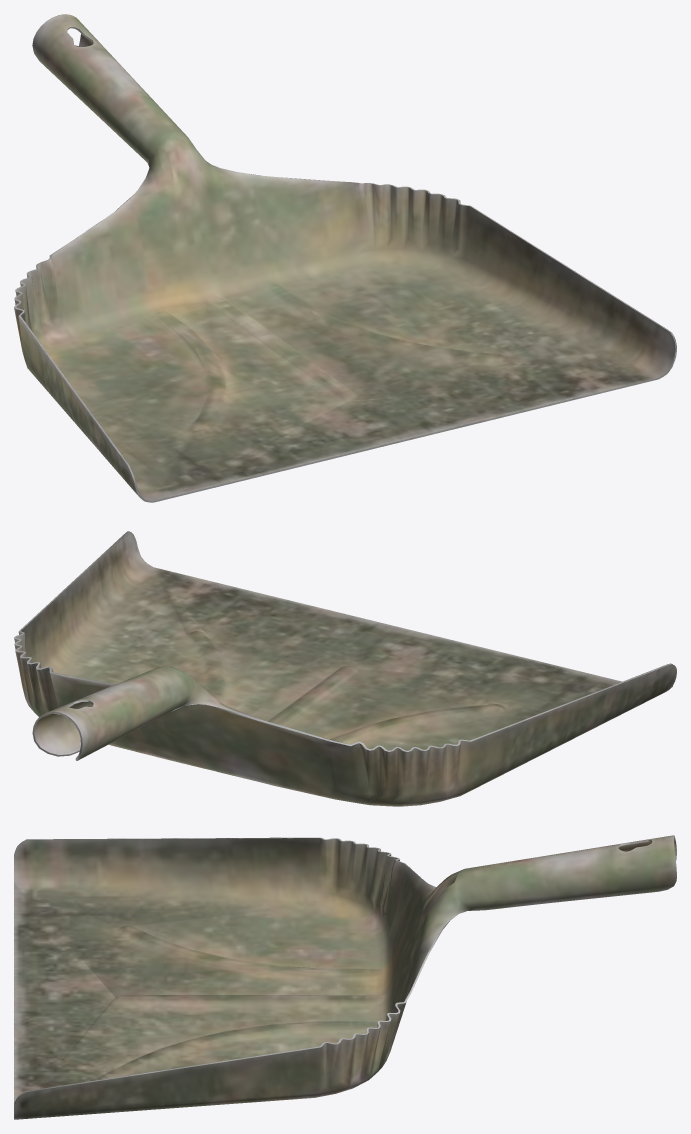
The model's file is dustpan.glb.
The picture shows the model from 3 angles, top to bottom: view 1: azimuth 30°, elevation 25°; view 2: azimuth 150°, elevation 25°; view 3: azimuth 270°, elevation 25°; orthographic projection. The views are drawn at different scales.
Parts seen in each view (by area): view 1: dustpan; view 2: dustpan; view 3: dustpan.
Boxes of the visible parts, x1=… form: dustpan: x1=14, y1=14, x2=676, y2=502; dustpan: x1=14, y1=531, x2=676, y2=806; dustpan: x1=14, y1=835, x2=676, y2=1119.
Bounding box in the file's own units: 0.3321 × 0.1003 × 0.368.
1 material, 1 textured.
